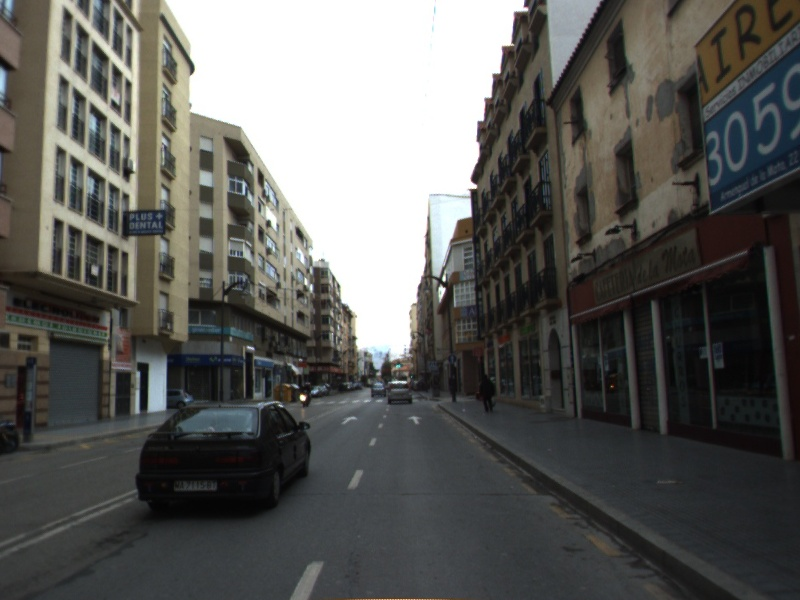STRAIGHT: (405, 413, 425, 426), (339, 414, 360, 426)
